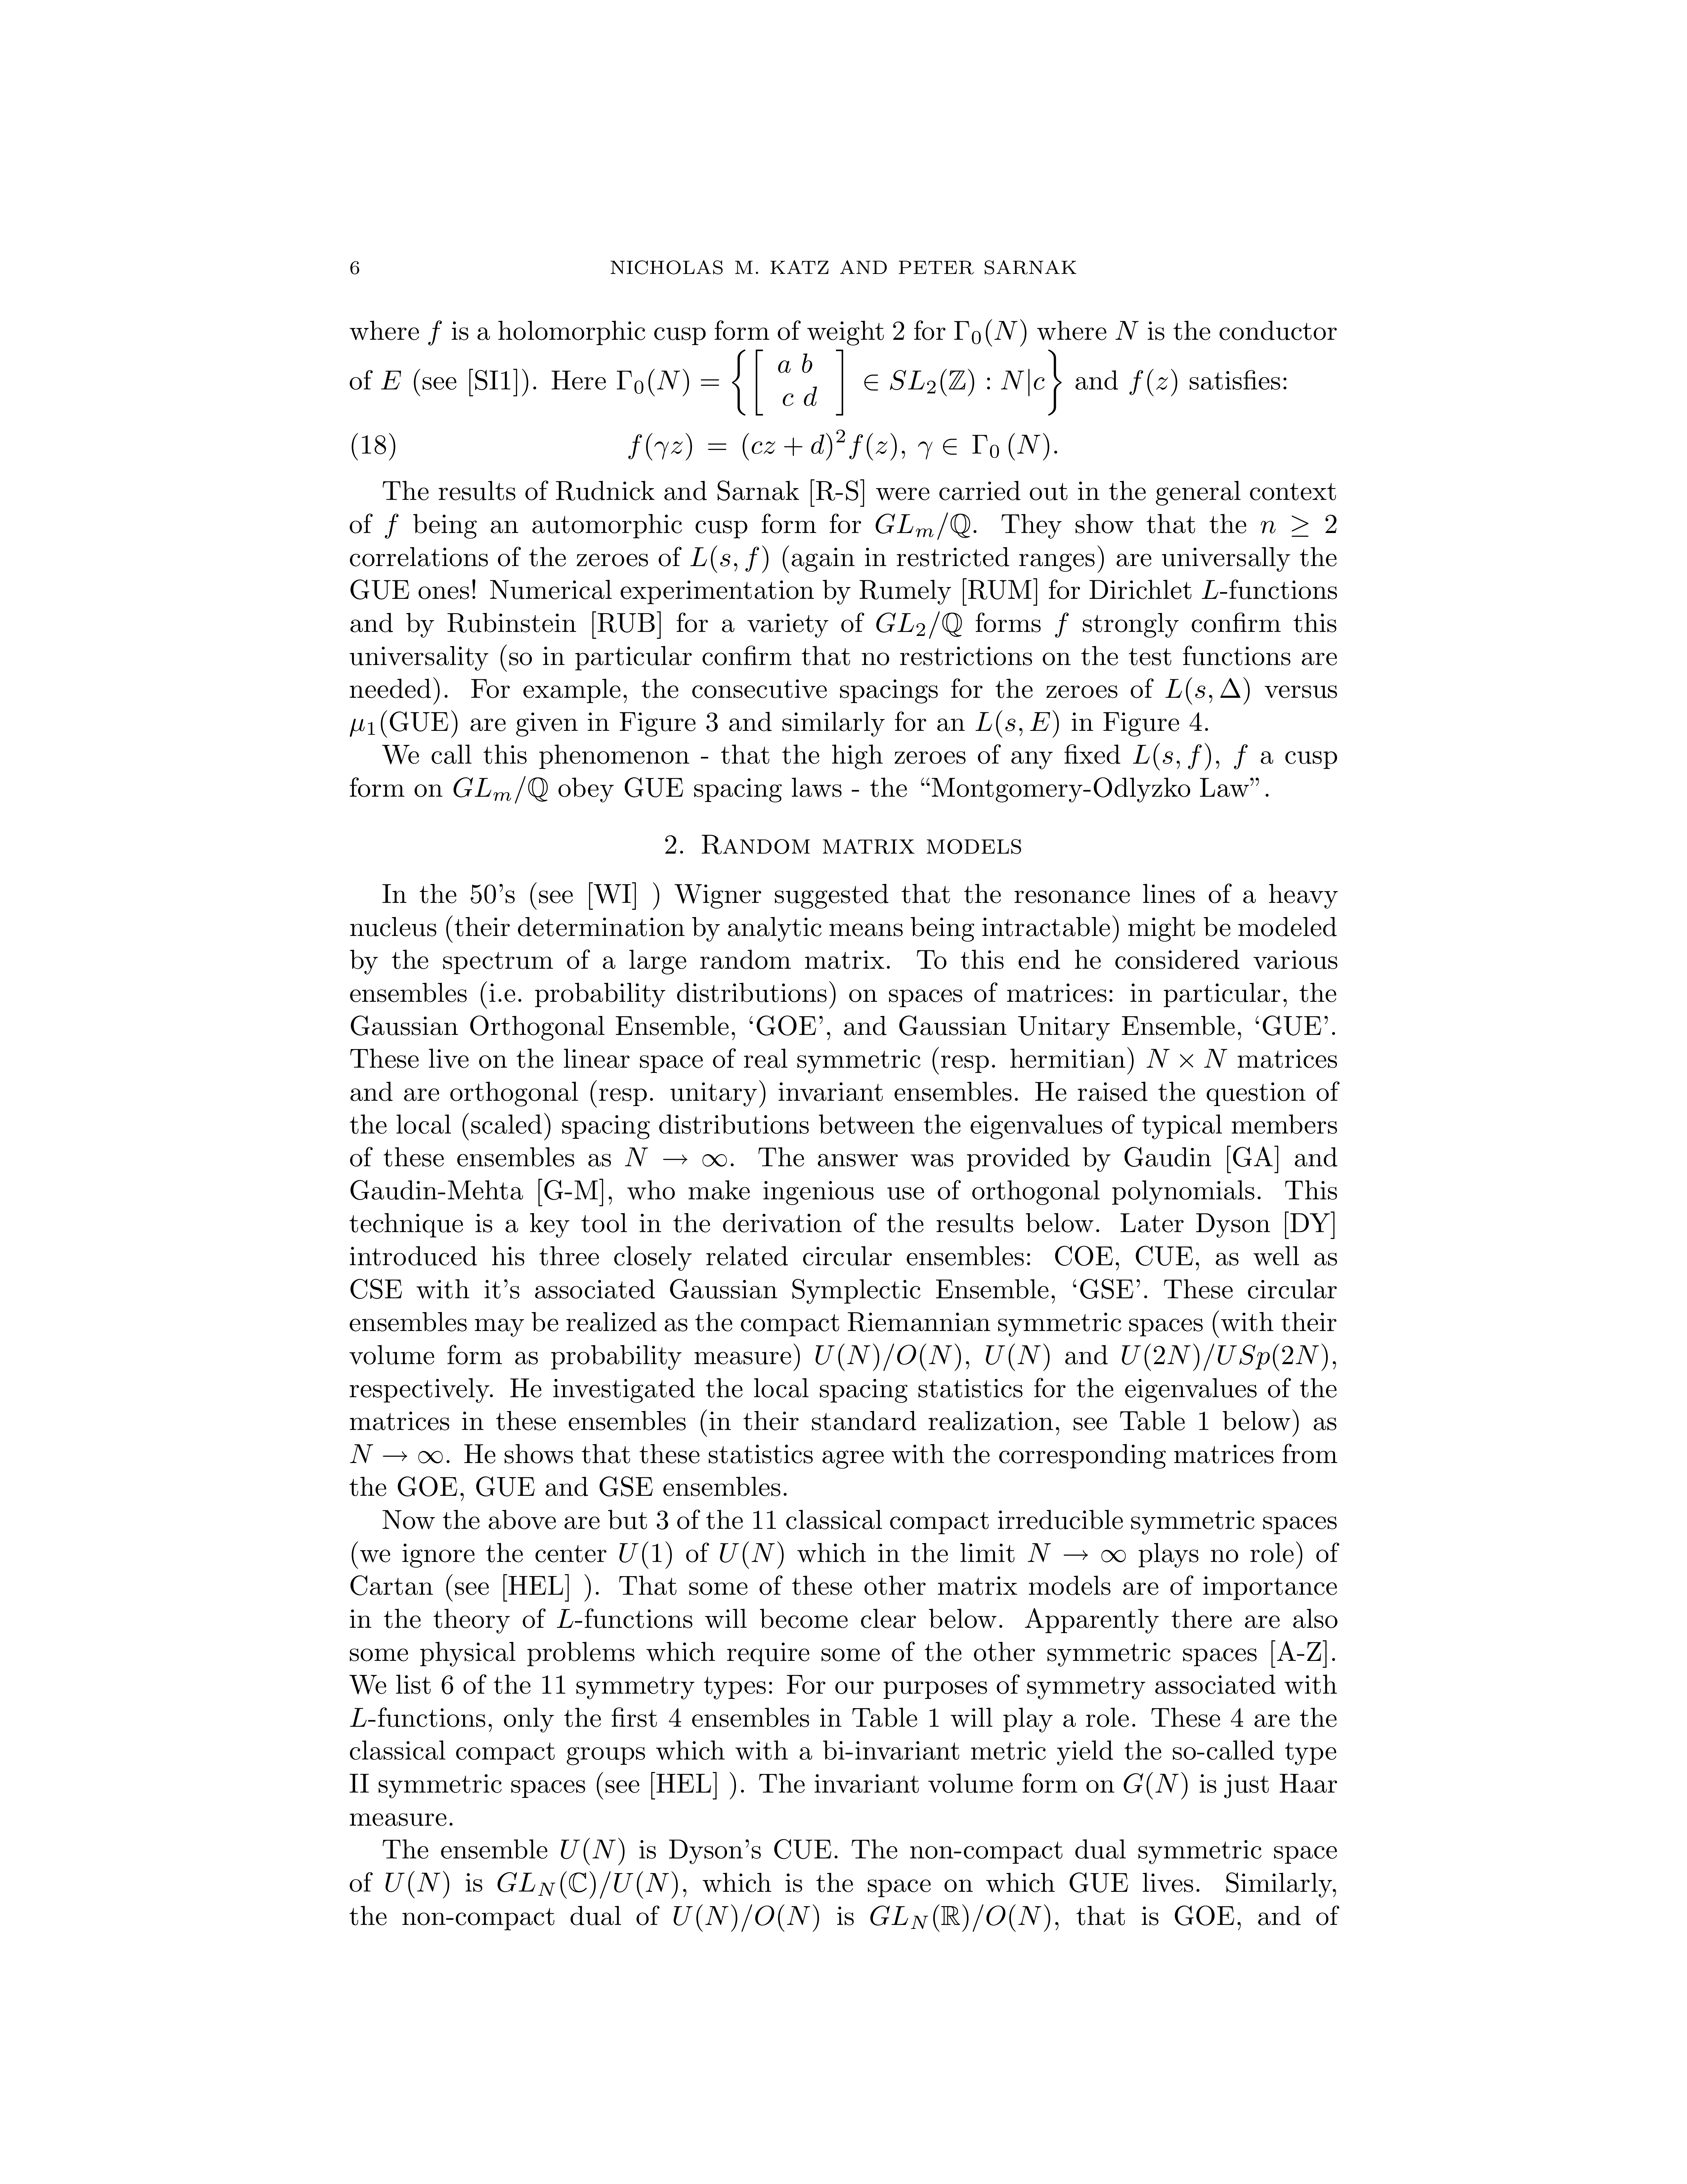maths: (617, 349, 975, 415), (627, 429, 906, 461), (1122, 1344, 1327, 1370), (870, 1904, 1049, 1932), (498, 1872, 677, 1899), (673, 1904, 819, 1932), (815, 1344, 969, 1370), (1001, 349, 1061, 415), (918, 433, 1049, 461), (349, 711, 457, 737), (875, 512, 969, 539), (454, 776, 548, 803), (875, 612, 962, 638), (1132, 743, 1219, 769), (1166, 677, 1249, 704), (975, 711, 1058, 737), (691, 546, 767, 573), (626, 1147, 727, 1166), (1028, 1542, 1125, 1562), (955, 319, 1026, 346), (386, 1870, 448, 1899), (1262, 514, 1336, 537), (985, 1344, 1049, 1370), (719, 1542, 783, 1569), (1123, 1773, 1187, 1799), (349, 1445, 443, 1462), (562, 1838, 624, 1865), (1147, 1049, 1226, 1067), (620, 1542, 672, 1569), (1129, 369, 1177, 395), (1115, 321, 1138, 339), (385, 514, 399, 539), (1233, 745, 1248, 769), (381, 370, 400, 388), (349, 1707, 367, 1727), (1054, 613, 1069, 636), (429, 321, 441, 346), (556, 1610, 572, 1627)
